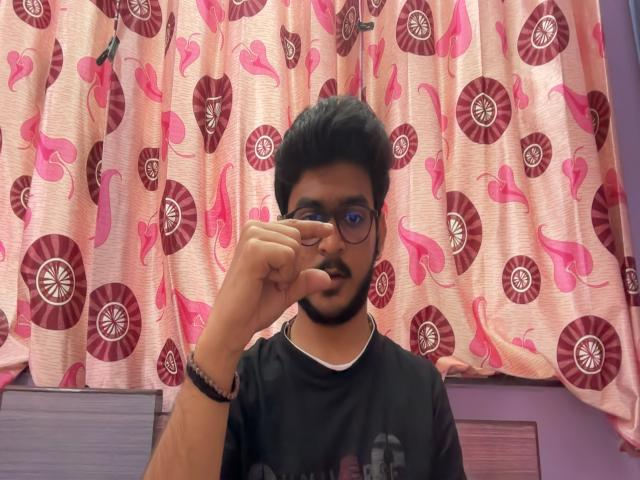No: (197, 205, 339, 370)
